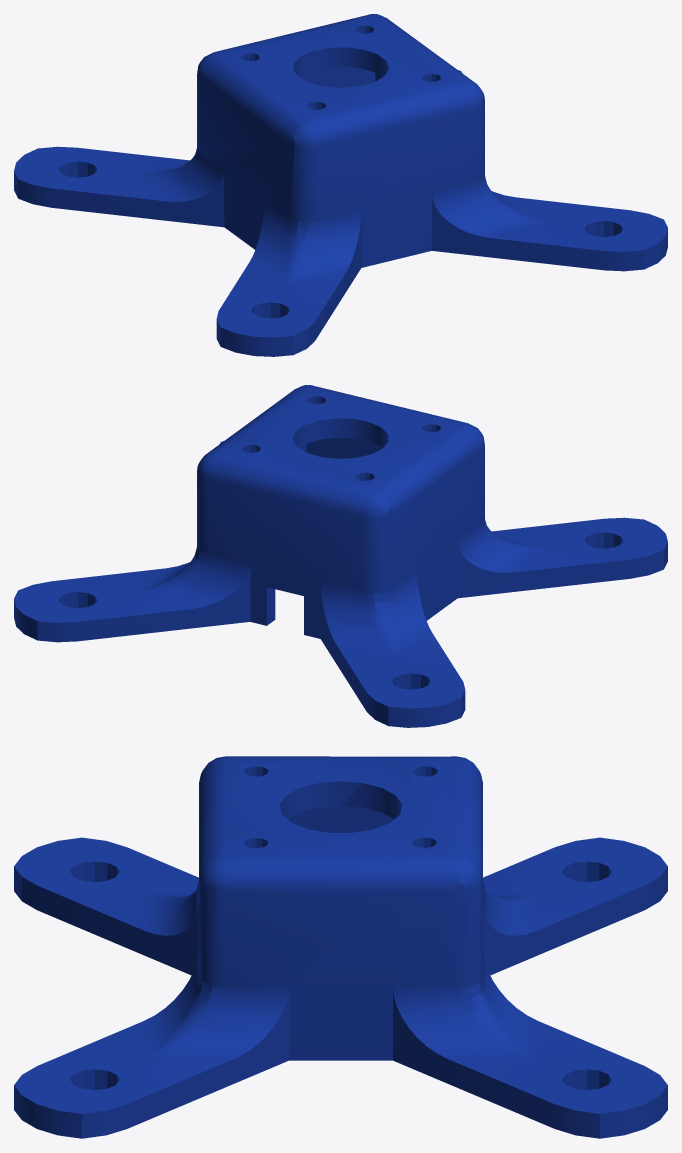
3 views of the same model, one above another, from view 1: azimuth 30°, elevation 25°; view 2: azimuth 150°, elevation 25°; view 3: azimuth 270°, elevation 25° (orthographic). The views are drawn at different scales.
Parts seen in each view (by area): view 1: Mesh; view 2: Mesh; view 3: Mesh.
Boxes of the visible parts, x1,y1,x2,y2 form: Mesh: (14,14,667,356); Mesh: (14,385,667,727); Mesh: (14,756,667,1138).
Size of the model in its own units: 1.2 by 1.2 by 0.39.
